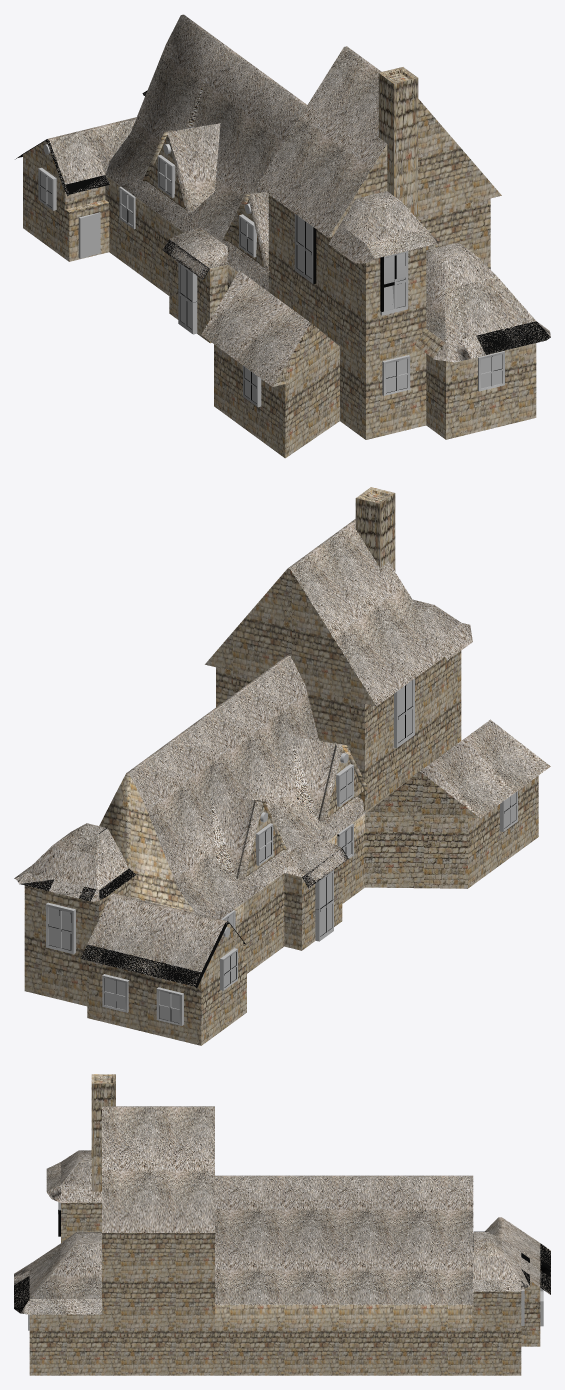
File: Ferme.FBX
3 renders of one model, top to bottom at view 1: azimuth 30°, elevation 25°; view 2: azimuth 150°, elevation 25°; view 3: azimuth 270°, elevation 25°, orthographic. The views are drawn at different scales.
Parts seen in each view (by area): view 1: Box001; view 2: Box001; view 3: Box001.
Boxes of the visible parts, x1,y1,x2,y2 form: Box001: [15, 14, 550, 458]; Box001: [14, 487, 550, 1045]; Box001: [14, 1074, 550, 1375].
Bounding box in the file's own units: 81.1 × 99.94 × 186.
